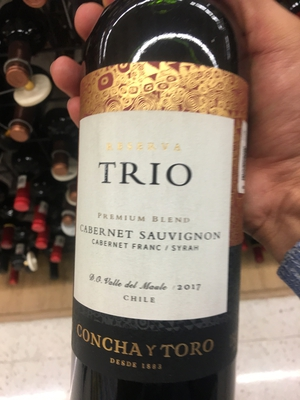trio cabernet sauvignon: (71, 18, 257, 400)
